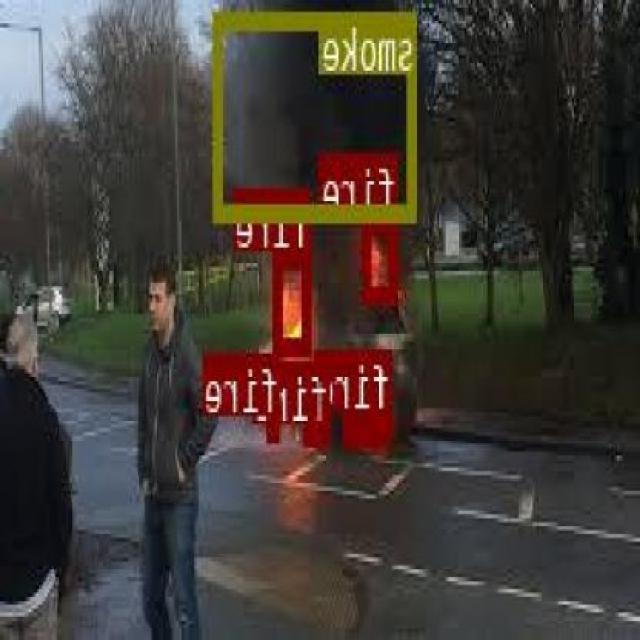Fire: (275, 251, 313, 351), (364, 212, 399, 300), (346, 410, 392, 441), (305, 421, 333, 441), (268, 412, 282, 437)
Smoke: (214, 10, 420, 219)
